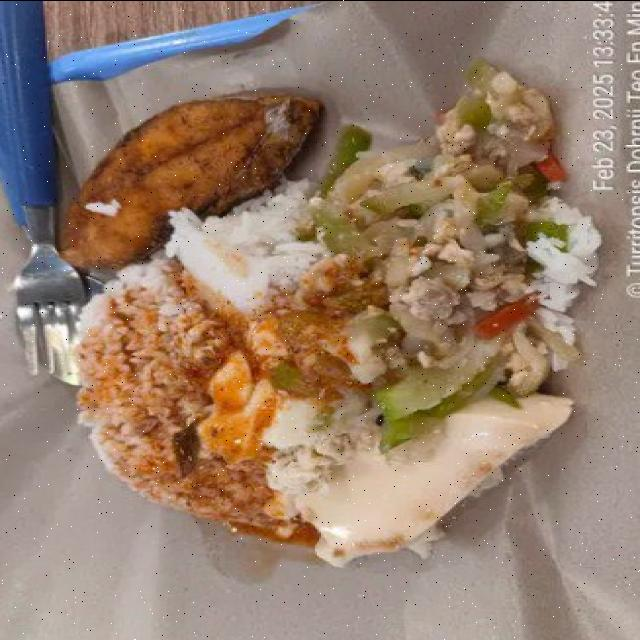Egg: (270, 394, 571, 566), (198, 352, 280, 461)
Fish: (61, 95, 319, 269)
Green veg: (313, 71, 566, 448)
Pork: (399, 276, 458, 326)
Rice: (78, 180, 319, 522), (526, 198, 601, 311)
